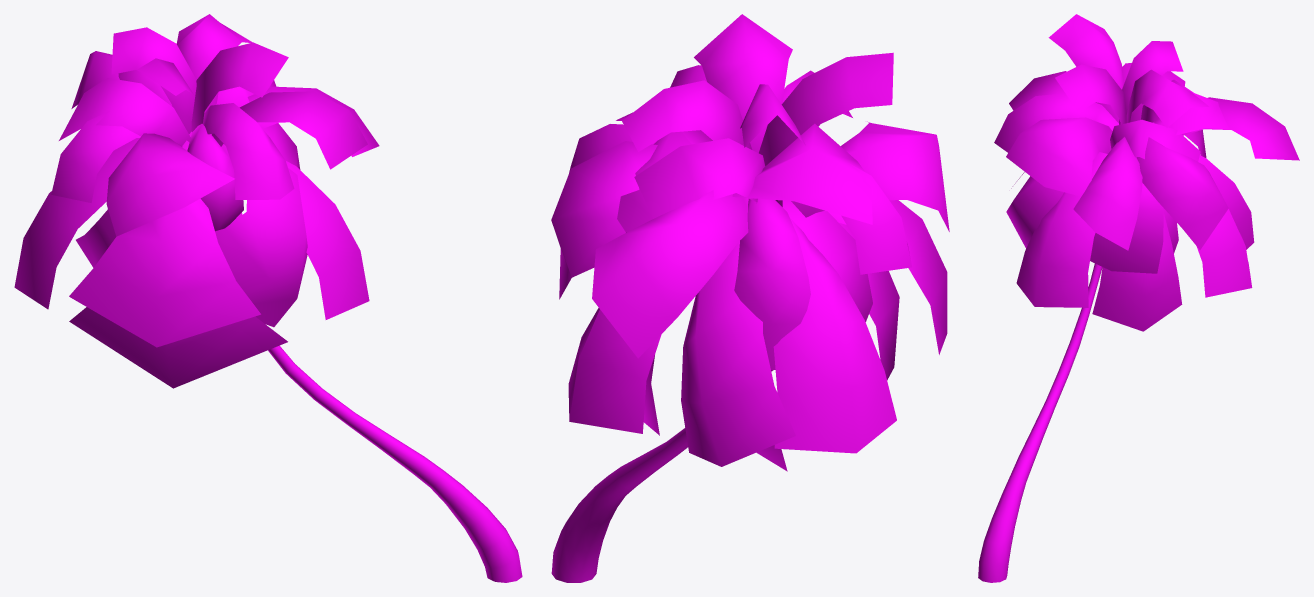
The model's file is tree_palm_tropical_02.glb.
3 renders of one model, left to right at view 1: azimuth 30°, elevation 25°; view 2: azimuth 150°, elevation 25°; view 3: azimuth 270°, elevation 25°, orthographic. The views are drawn at different scales.
Visible parts, largest first — view 1: palm_bendMesh-mesh; view 2: palm_bendMesh-mesh; view 3: palm_bendMesh-mesh.
Boxes of the visible parts, left/top/right/bottom form: palm_bendMesh-mesh: left=14, top=14, right=522, bottom=582; palm_bendMesh-mesh: left=551, top=14, right=949, bottom=582; palm_bendMesh-mesh: left=978, top=14, right=1299, bottom=582.
Size of the model in its own units: 14.15 by 19.17 by 12.74.
